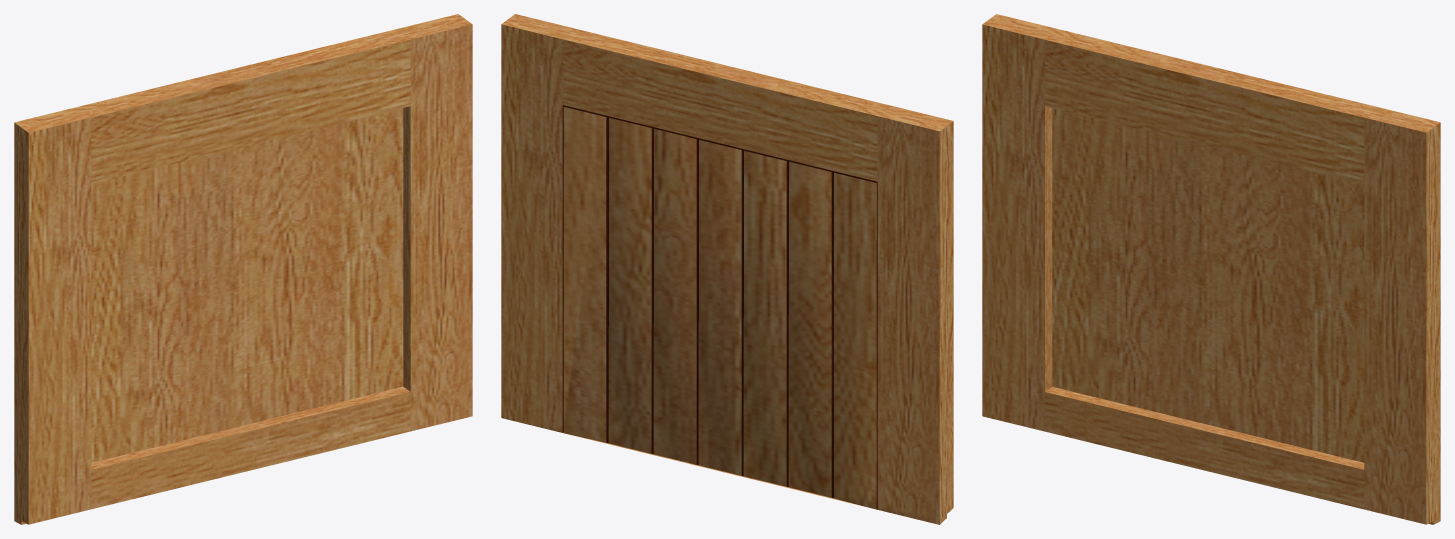
Rendered from StableDoorOakUPPER01.fbx.
3 renders of one model, left to right at view 1: azimuth 30°, elevation 25°; view 2: azimuth 150°, elevation 25°; view 3: azimuth 330°, elevation 25°, orthographic.
Visible parts, largest first — view 1: default; view 2: default; view 3: default.
Boxes of the visible parts, x1,y1,x2,y2 form: default: (14, 14, 472, 524); default: (501, 14, 953, 524); default: (982, 14, 1440, 524).
Bounding box in the file's own units: 113 × 96.82 × 6.29.
